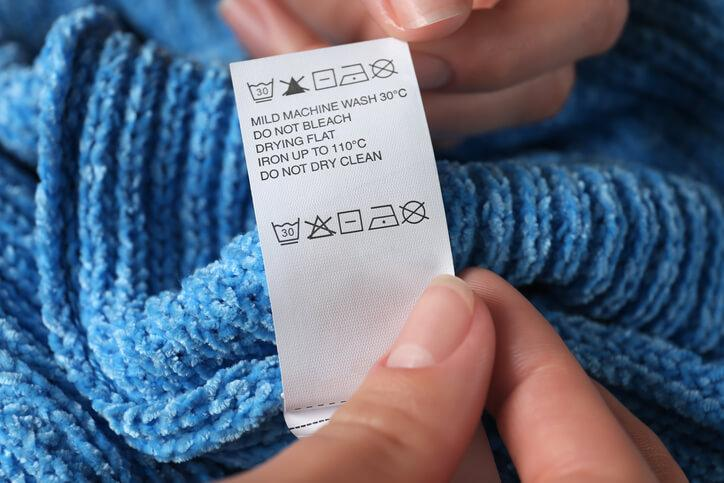30C: (269, 215, 304, 250), (245, 73, 276, 108)
DN_bleach: (306, 214, 334, 242), (281, 75, 309, 99)
DN_dry_clean: (400, 195, 430, 229), (371, 55, 398, 82)
dry_flat: (336, 207, 367, 238), (312, 65, 337, 93)
iron_low: (368, 200, 400, 235), (340, 58, 370, 89)
